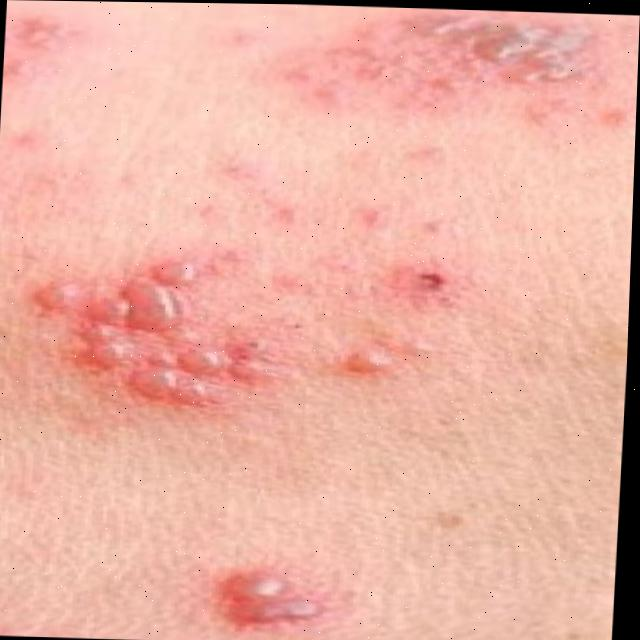Shingles: (62, 260, 245, 409), (416, 8, 591, 90), (220, 569, 306, 637)
